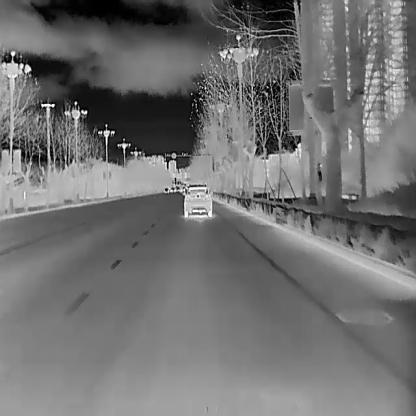car: (181, 183, 212, 217), (164, 187, 168, 192)
